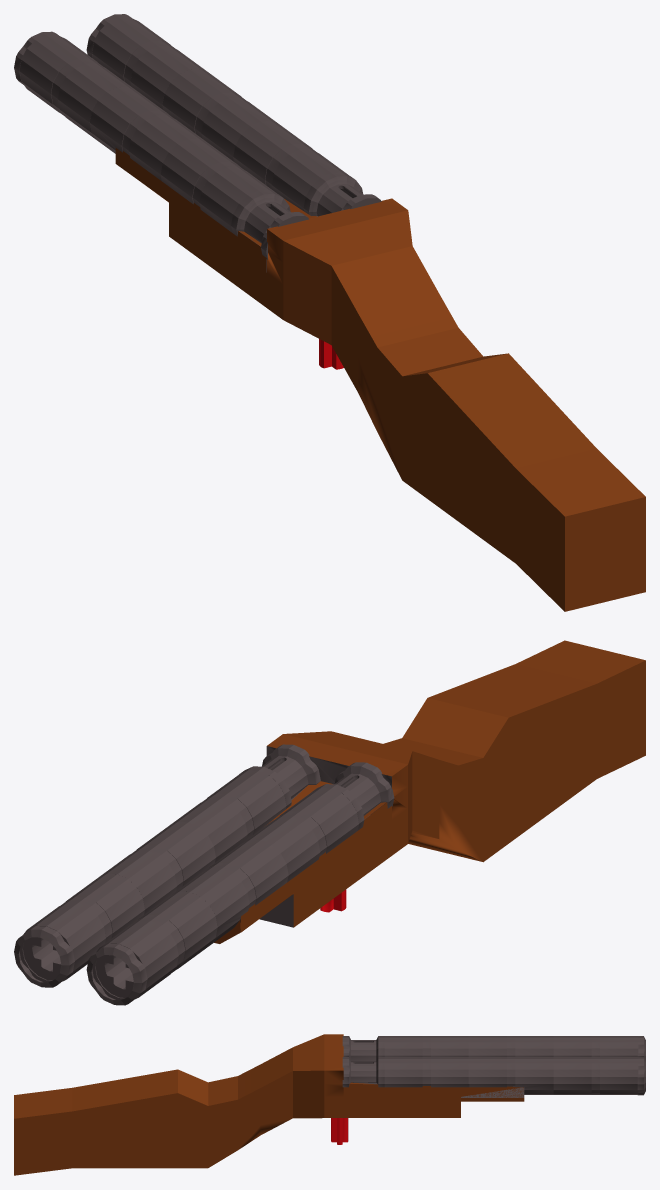
The model's file is shotgun (2).fbx.
3 renders of one model, top to bottom at view 1: azimuth 30°, elevation 25°; view 2: azimuth 150°, elevation 25°; view 3: azimuth 270°, elevation 25°, orthographic. The views are drawn at different scales.
Parts seen in each view (by area): view 1: shotgun; view 2: shotgun; view 3: shotgun.
Part boxes in pixels (x1,y1,x2,y2): shotgun: [14, 14, 645, 611]; shotgun: [14, 640, 645, 1005]; shotgun: [14, 1034, 645, 1175].
Bounding box in the file's own units: 0.2687 × 0.1864 × 1.33.
